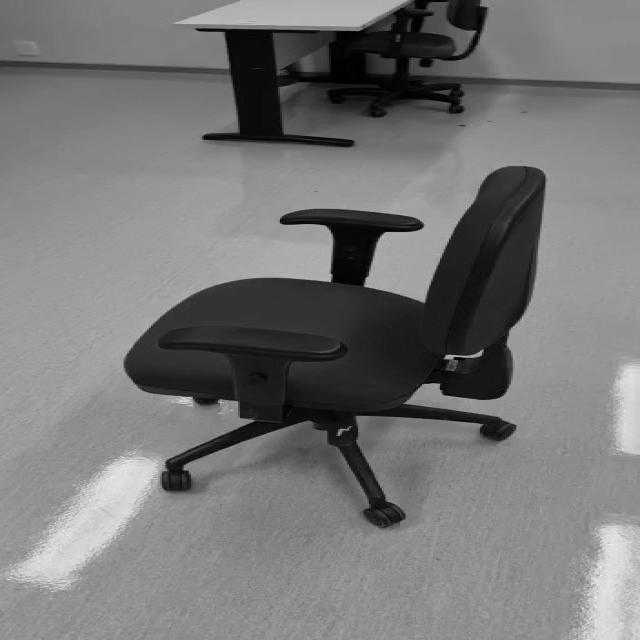chair: (124, 165, 546, 528)
